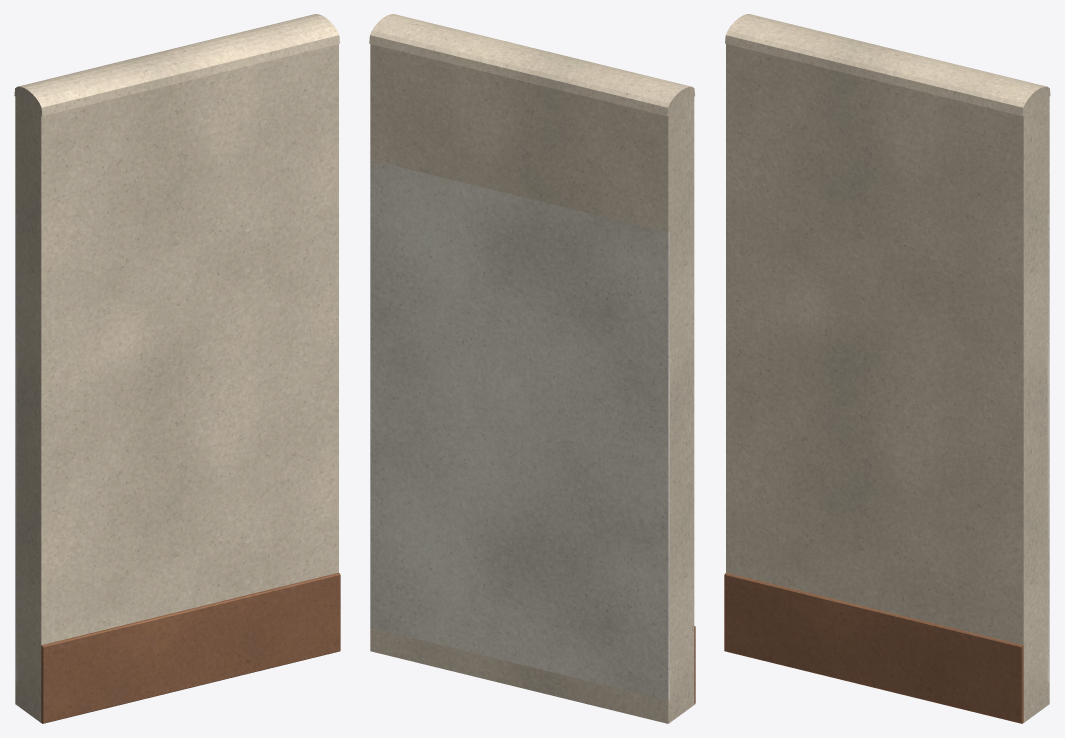
File: c_wall_side.glb
The picture shows the model from 3 angles, left to right: view 1: azimuth 30°, elevation 25°; view 2: azimuth 150°, elevation 25°; view 3: azimuth 330°, elevation 25°; orthographic projection.
Visible parts, largest first — view 1: c_wall_side_render, c_wall_side_plinth, c_wall_side_plaster; view 2: c_wall_side_plaster, c_wall_side_render; view 3: c_wall_side_render, c_wall_side_plinth, c_wall_side_plaster.
Boxes of the visible parts, <box> form: c_wall_side_render: <box>14,14,339,722</box>; c_wall_side_plinth: <box>41,572,340,723</box>; c_wall_side_plaster: <box>15,213,17,681</box>; c_wall_side_plaster: <box>370,160,669,700</box>; c_wall_side_render: <box>369,14,695,723</box>; c_wall_side_render: <box>725,14,1050,722</box>; c_wall_side_plinth: <box>724,572,1023,723</box>; c_wall_side_plaster: <box>1047,213,1049,681</box>.
Size of the model in its own units: 2 by 4 by 0.332.
Materials: 3 (3 with a texture image).
